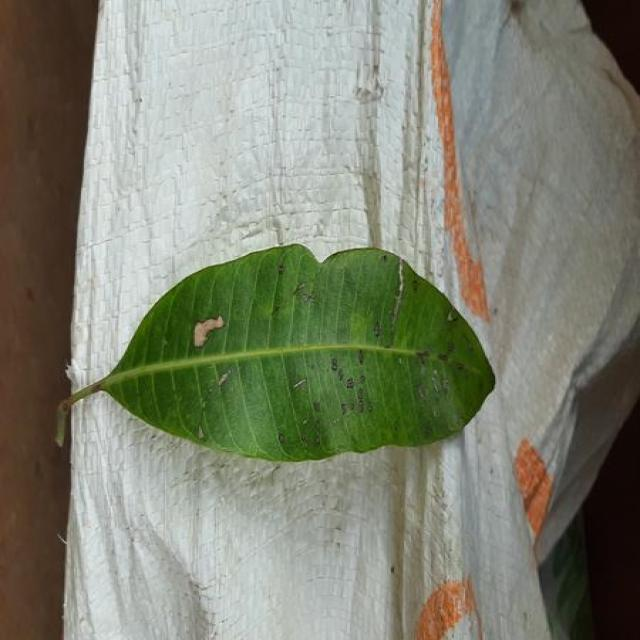Anthracnose: (155, 305, 495, 461)
mango: (67, 244, 495, 461)
